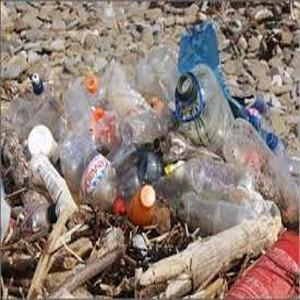Plastic: (58, 127, 125, 215), (171, 153, 253, 197)
